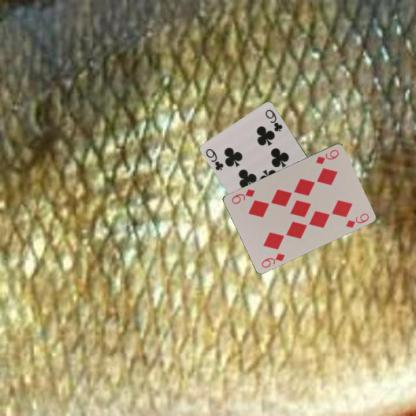9c: (204, 146, 226, 172)
9d: (259, 250, 286, 269), (313, 147, 340, 165)
